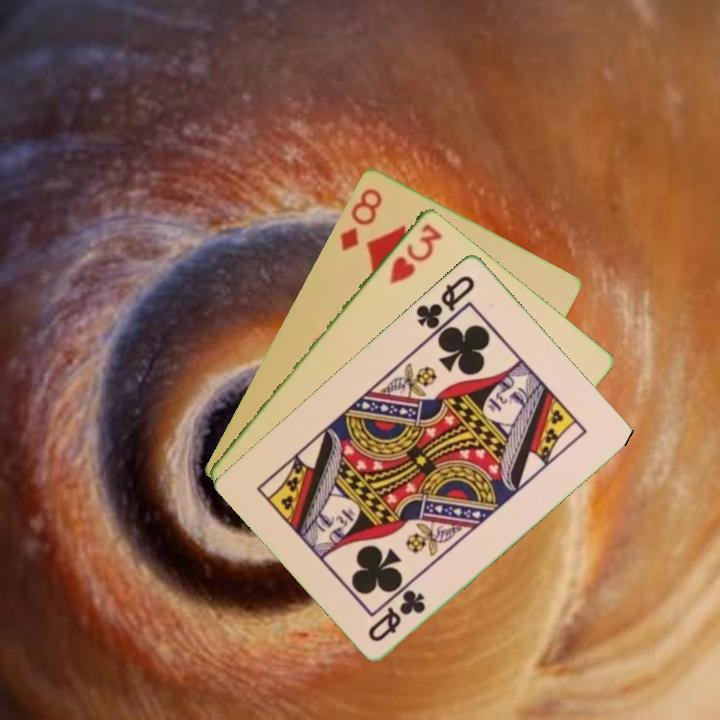3h: (385, 219, 446, 287)
8d: (336, 183, 385, 254)
Qc: (412, 271, 478, 331), (364, 585, 429, 644)
